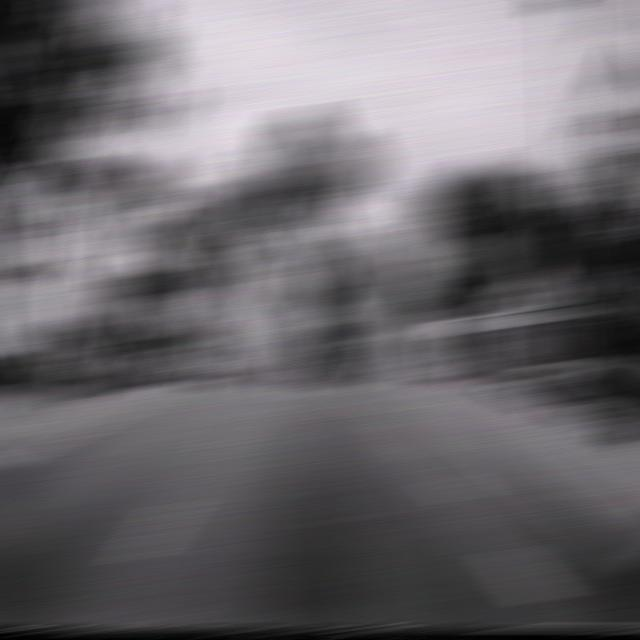stop: (462, 233, 509, 274), (140, 292, 182, 327)
